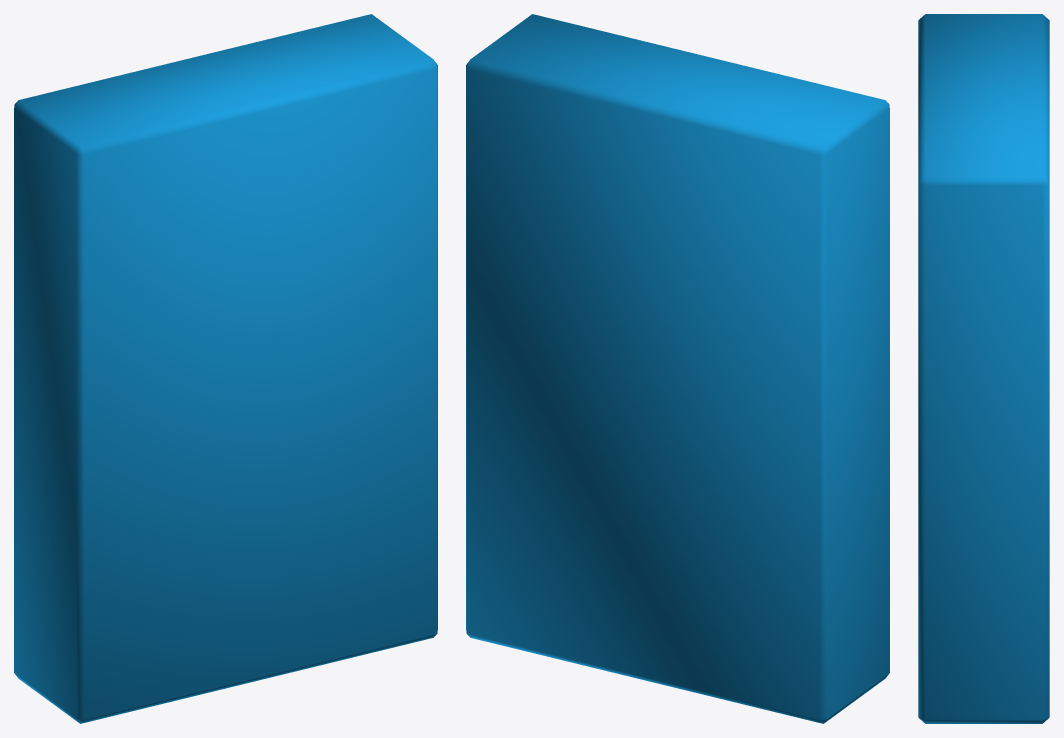
Rendered from long wall_blue.fbx.
3 views of the same model, side by side, from view 1: azimuth 30°, elevation 25°; view 2: azimuth 150°, elevation 25°; view 3: azimuth 270°, elevation 25° (orthographic). The views are drawn at different scales.
Parts seen in each view (by area): view 1: long wall_blue; view 2: long wall_blue; view 3: long wall_blue.
Boxes of the visible parts, x1,y1,x2,y2 form: long wall_blue: (14,14,437,723); long wall_blue: (466,14,889,723); long wall_blue: (918,14,1049,723).
Size of the model in its own units: 0.3781 by 0.5777 by 0.1259.
